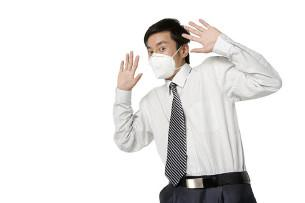OK: (146, 39, 186, 79)
